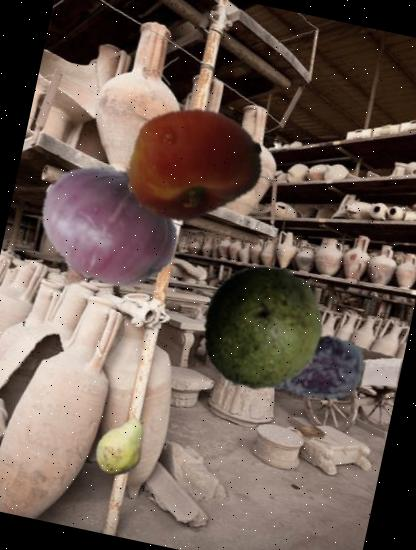Avocado: (185, 251, 338, 404)
Dates: (232, 294, 376, 438)
Nectarine: (110, 80, 274, 244)
Onion: (20, 144, 192, 316)
Pear: (84, 408, 164, 486)
